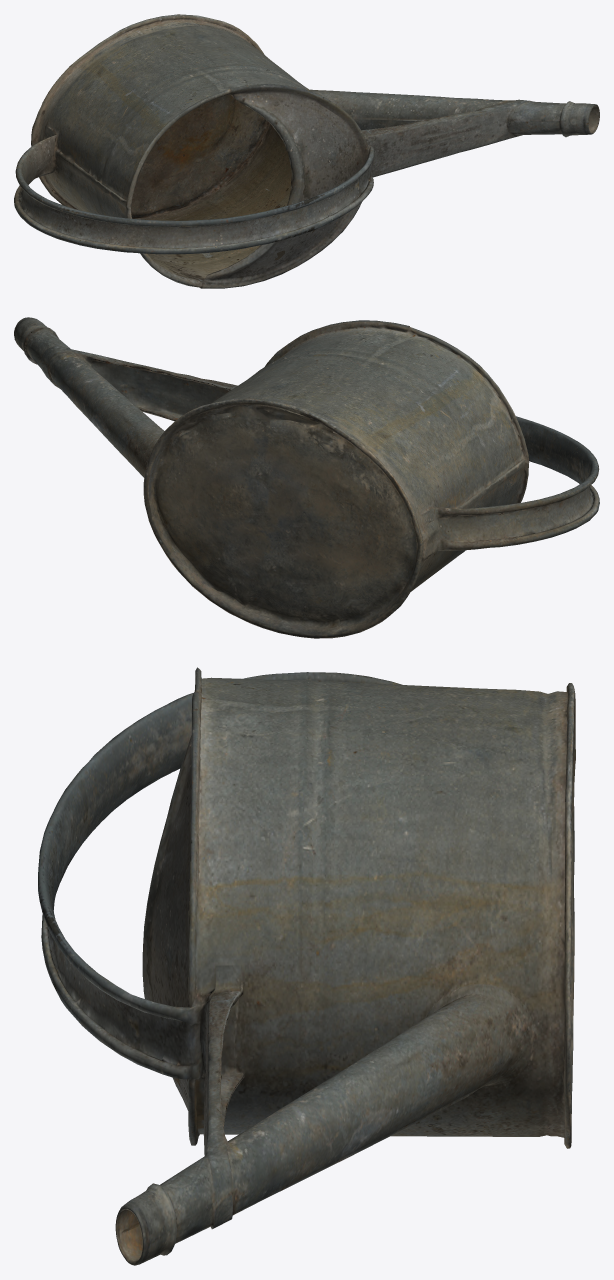
The picture shows the model from 3 angles, top to bottom: view 1: azimuth 30°, elevation 25°; view 2: azimuth 150°, elevation 25°; view 3: azimuth 270°, elevation 25°; orthographic projection. The views are drawn at different scales.
Visible parts, largest first — view 1: Object_4; view 2: Object_4; view 3: Object_4.
Boxes of the visible parts, box(x1,y1,x2,y2) form: Object_4: box(14, 14, 599, 288); Object_4: box(14, 317, 599, 638); Object_4: box(38, 667, 575, 1265).
Size of the model in its own units: 0.1123 by 0.0407 by 0.0489.
1 material, 1 textured.
